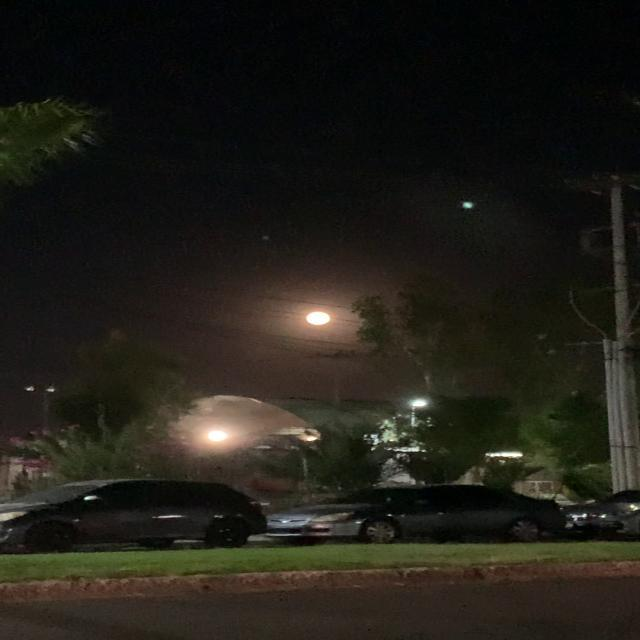moon: (303, 308, 332, 326)
